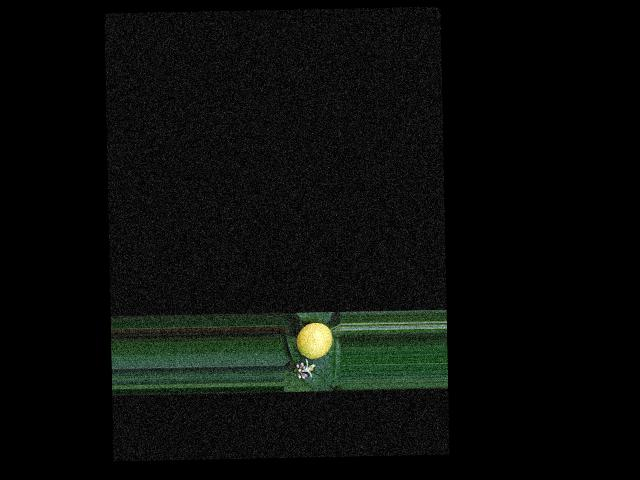lemon: (296, 319, 334, 359)
